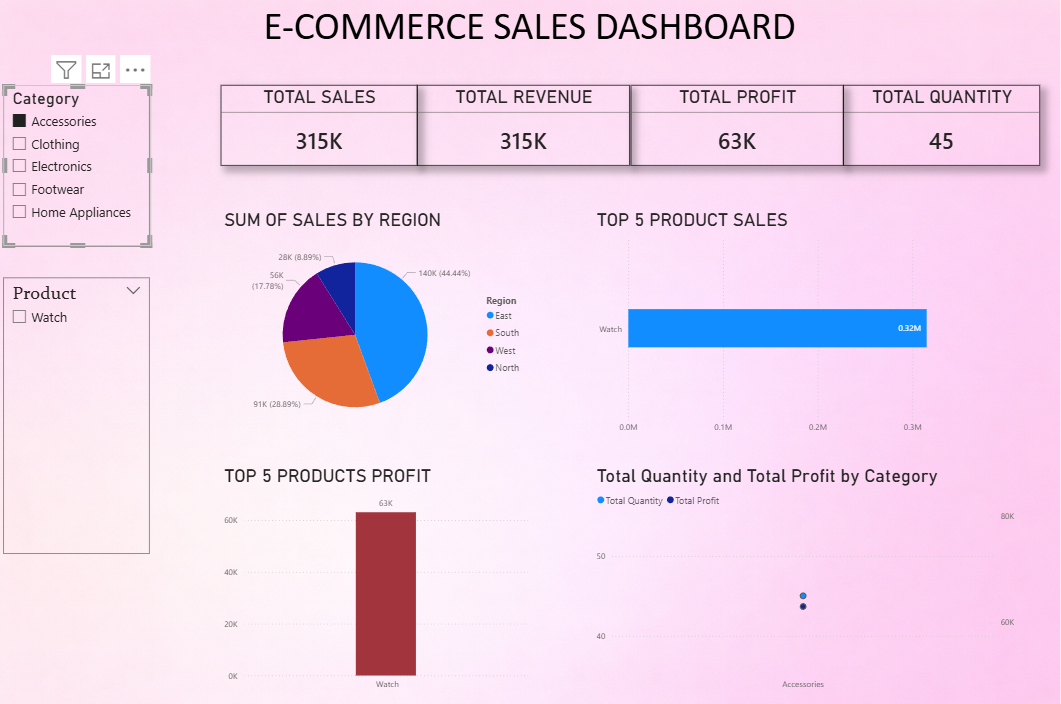

The dashboard page shown, as its layout file describes it:
{"tool":"powerbi","page":{"name":"Page 1","canvas":[1920,1080],"ordinal":0},"visuals":[{"type":"textbox","box":[198,28,1524,84],"z":0},{"type":"slicer","fields":{"Values":["Sheet1.Category"]},"box":[198,152,212,234],"z":1},{"type":"slicer","fields":{"Values":["Sheet1.Product"]},"box":[198,430,212,400],"z":2},{"type":"pieChart","title":"SUM OF SALES BY REGION","fields":{"Category":["Sheet1.Region"],"Y":["Sum(Sheet1.Sales)"]},"box":[511.7,331.7,453.3,335],"z":3},{"type":"cardVisual","title":"TOTAL SALES","fields":{"Data":["Sheet1.Total Sales"]},"box":[511.7,151.7,285,116.7],"z":4},{"type":"cardVisual","title":"TOTAL REVENUE","fields":{"Data":["Sheet1.Total Revenue"]},"box":[796.7,151.7,308.3,116.7],"z":5},{"type":"cardVisual","title":"TOTAL QUANTITY","fields":{"Data":["Sheet1.Total Quantity"]},"box":[1413.3,151.7,285,116.7],"z":6},{"type":"cardVisual","title":"TOTAL PROFIT","fields":{"Data":["Sheet1.Total Profit"]},"box":[1105,151.7,308.3,116.7],"z":7},{"type":"clusteredBarChart","title":"TOP 5 PRODUCT SALES","fields":{"Category":["Sheet1.Product"],"Y":["Sheet1.Total Sales"]},"box":[1051.7,331.7,528.3,335],"z":8},{"type":"clusteredColumnChart","title":"TOP 5 PRODUCTS PROFIT","fields":{"Category":["Sheet1.Product"],"Y":["Sheet1.Total Profit"]},"box":[511.7,701.7,453.3,335],"z":9},{"type":"lineChart","fields":{"Category":["Sheet1.Category"],"Y2":["Sheet1.Total Profit"],"Y":["Sheet1.Total Quantity"]},"box":[1051.7,701.7,615,335],"z":10}]}

Visuals, with their boxes on the page's 1920x1080 design canvas (x1, y1, x2, y2). These are canvas units, not pixel positions in the 1061x704 screenshot, which may show the page scaled, cropped or inside an application window:
textbox: [x1=198, y1=28, x2=1722, y2=112]
slicer - Sheet1.Category: [x1=198, y1=152, x2=410, y2=386]
slicer - Sheet1.Product: [x1=198, y1=430, x2=410, y2=830]
"SUM OF SALES BY REGION" pieChart: [x1=512, y1=332, x2=965, y2=667]
"TOTAL SALES" cardVisual: [x1=512, y1=152, x2=797, y2=268]
"TOTAL REVENUE" cardVisual: [x1=797, y1=152, x2=1105, y2=268]
"TOTAL QUANTITY" cardVisual: [x1=1413, y1=152, x2=1698, y2=268]
"TOTAL PROFIT" cardVisual: [x1=1105, y1=152, x2=1413, y2=268]
"TOP 5 PRODUCT SALES" clusteredBarChart: [x1=1052, y1=332, x2=1580, y2=667]
"TOP 5 PRODUCTS PROFIT" clusteredColumnChart: [x1=512, y1=702, x2=965, y2=1037]
lineChart - Sheet1.Category x Sheet1.Total Profit: [x1=1052, y1=702, x2=1667, y2=1037]
